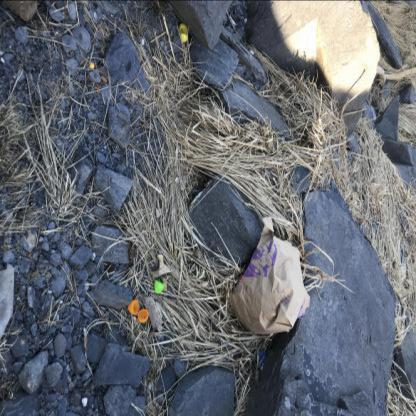Other litter: (229, 216, 310, 335)
Other plastic: (128, 299, 139, 314), (138, 309, 149, 323), (155, 279, 165, 293), (179, 22, 187, 33), (180, 33, 187, 42), (90, 64, 95, 69)
Unlabeled litter: (260, 350, 267, 370)
